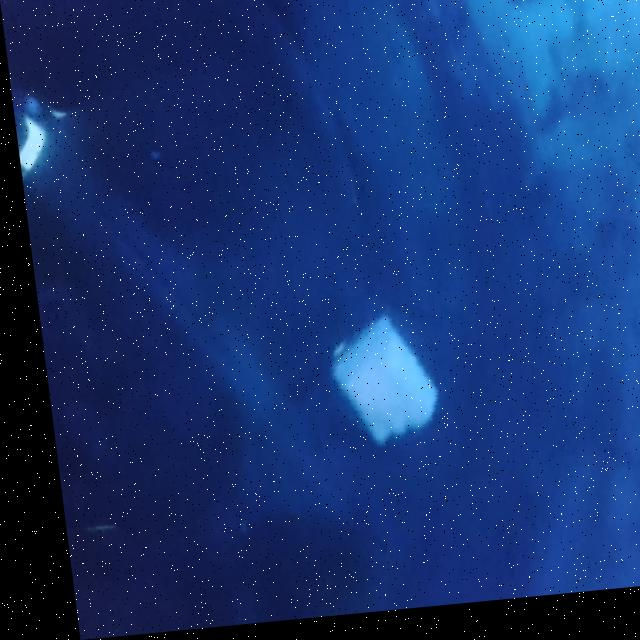thermocoal: (280, 296, 448, 486)
